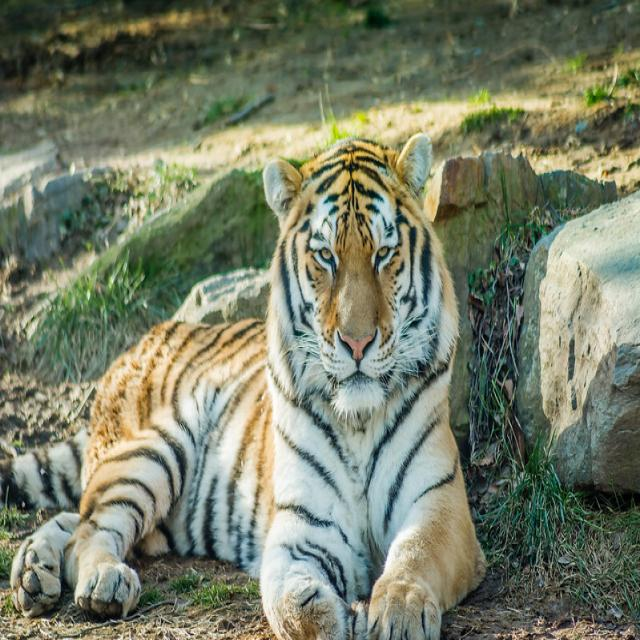Tiger: (2, 129, 486, 635)
